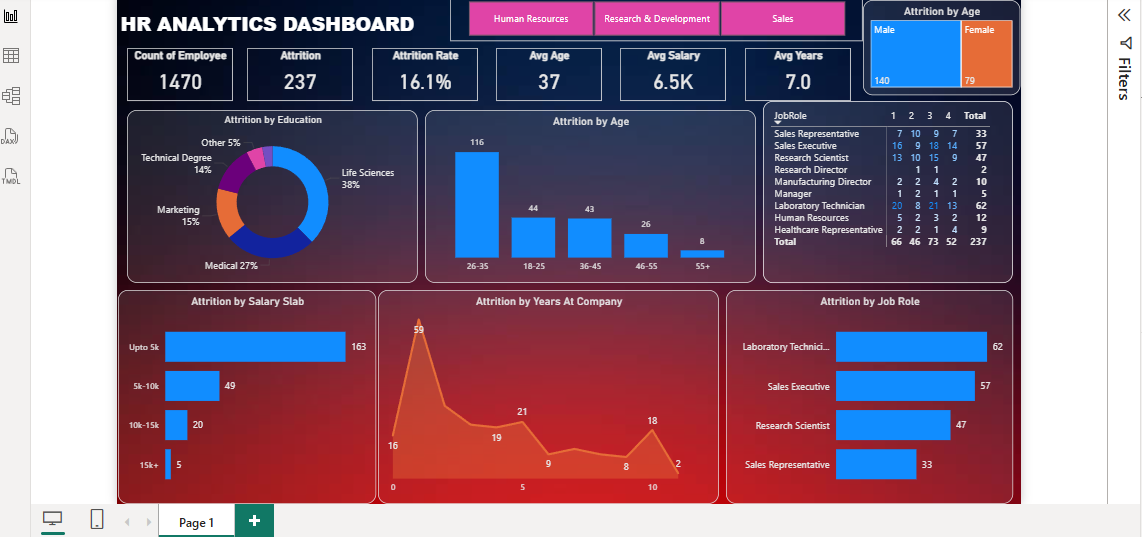

The dashboard page shown, as its layout file describes it:
{"tool":"powerbi","page":{"name":"Page 1","canvas":[1280,720],"ordinal":0},"visuals":[{"type":"card","title":"Count of Employee","fields":{"Values":["CountNonNull(HR_Analytics.EmpID)"]},"box":[14.2,73.7,150.2,75.1],"z":0},{"type":"card","title":"Attrition","fields":{"Values":["Sum(HR_Analytics.AttritionCount)"]},"box":[184.3,73.7,150.2,75.1],"z":1000},{"type":"card","title":"Attrition Rate","fields":{"Values":["HR_Analytics.AttritionRate"]},"box":[361.4,73.7,150.2,75.1],"z":2000},{"type":"card","title":"Avg Age","fields":{"Values":["Avg(HR_Analytics.Age)"]},"box":[537.2,73.7,150.2,75.1],"z":3000},{"type":"card","title":"Avg Salary","fields":{"Values":["Avg(HR_Analytics.MonthlyIncome)"]},"box":[712.9,73.7,150.2,75.1],"z":4000},{"type":"card","title":"Avg Years","fields":{"Values":["Avg(HR_Analytics.YearsAtCompany)"]},"box":[890.1,73.7,150.2,75.1],"z":5000},{"type":"donutChart","title":"Attrition by Education","fields":{"Category":["HR_Analytics.EducationField"],"Y":["Sum(HR_Analytics.AttritionCount)"]},"box":[14.2,161.6,412.4,245.2],"z":6000},{"type":"columnChart","title":"Attrition by Age","fields":{"Category":["HR_Analytics.AgeGroup"],"Y":["Sum(HR_Analytics.AttritionCount)"]},"box":[436.5,161.6,469.1,245.2],"z":7000},{"type":"pivotTable","fields":{"Rows":["HR_Analytics.JobRole"],"Columns":["HR_Analytics.JobSatisfaction"],"Values":["Sum(HR_Analytics.AttritionCount)"]},"box":[915.6,148.8,354.3,258],"z":8000},{"type":"barChart","title":"Attrition by Salary Slab","fields":{"Category":["HR_Analytics.SalarySlab"],"Y":["Sum(HR_Analytics.AttritionCount)"]},"box":[1.4,416.7,365.7,303.3],"z":8001},{"type":"barChart","title":"Attrition by Job Role","fields":{"Category":["HR_Analytics.JobRole"],"Y":["Sum(HR_Analytics.AttritionCount)"]},"box":[863.1,416.7,406.8,303.3],"z":8002},{"type":"areaChart","title":"Attrition by Years At Company","fields":{"Category":["HR_Analytics.YearsAtCompany"],"Y":["Sum(HR_Analytics.AttritionCount)"]},"box":[369.9,416.7,483.3,303.3],"z":8003},{"type":"treemap","title":"Attrition by Age","fields":{"Group":["HR_Analytics.Gender"],"Values":["Sum(HR_Analytics.AttritionCount)"]},"box":[1057.3,5.7,222.5,134.6],"z":8004},{"type":"slicer","fields":{"Values":["HR_Analytics.Department"]},"box":[472,0,585.4,63.8],"z":8005},{"type":"textbox","box":[0,15.6,494.6,58.1],"z":8006}]}

Visuals, with their boxes in screenshot pixels (x1, y1, x2, y2):
"Count of Employee" card: detection(123, 43, 230, 97)
"Attrition" card: detection(244, 43, 351, 97)
"Attrition Rate" card: detection(370, 43, 477, 97)
"Avg Age" card: detection(495, 43, 602, 97)
"Avg Salary" card: detection(620, 43, 727, 97)
"Avg Years" card: detection(746, 43, 853, 97)
"Attrition by Education" donutChart: detection(123, 106, 416, 280)
"Attrition by Age" columnChart: detection(423, 106, 757, 280)
pivotTable - HR_Analytics.JobRole x HR_Analytics.JobSatisfaction: detection(764, 97, 1016, 280)
"Attrition by Salary Slab" barChart: detection(114, 287, 374, 503)
"Attrition by Job Role" barChart: detection(727, 287, 1016, 503)
"Attrition by Years At Company" areaChart: detection(376, 287, 720, 503)
"Attrition by Age" treemap: detection(865, 0, 1023, 91)
slicer - HR_Analytics.Department: detection(449, 0, 865, 36)
textbox: detection(113, 2, 465, 43)
